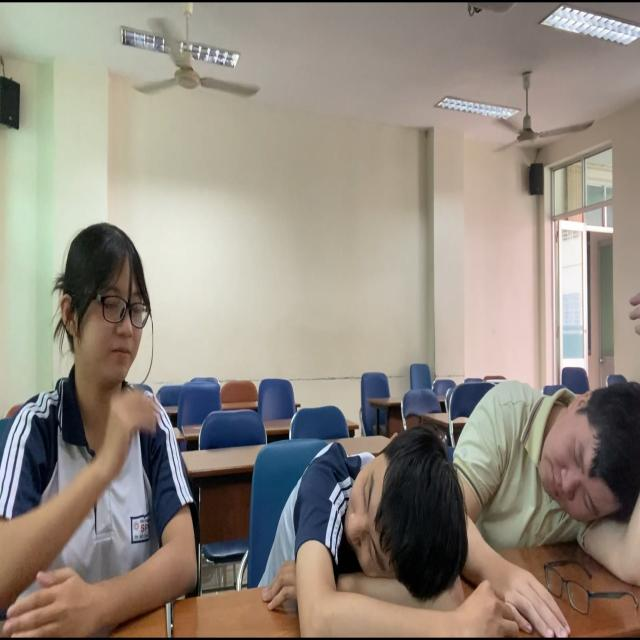sleep: (244, 424, 542, 640), (430, 360, 640, 640)
